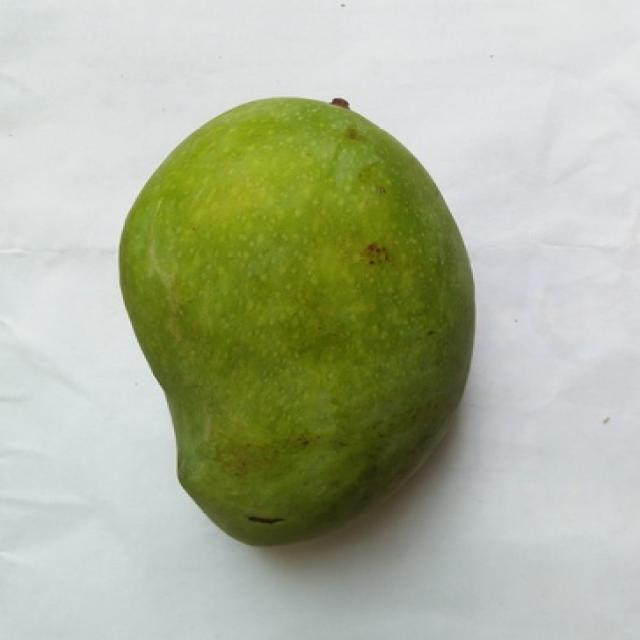Mango: (121, 99, 473, 545)
